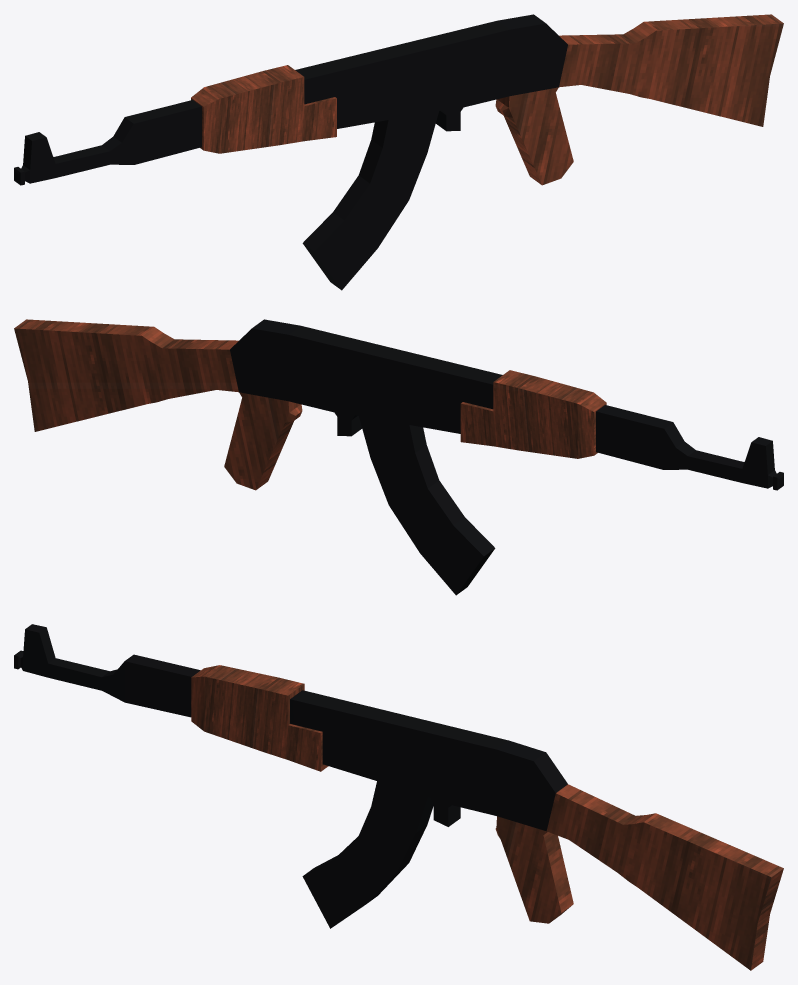
The picture shows the model from 3 angles, top to bottom: view 1: azimuth 30°, elevation 25°; view 2: azimuth 150°, elevation 25°; view 3: azimuth 330°, elevation 25°; orthographic projection.
Visible parts, largest first — view 1: ak47_body, ak47_mag; view 2: ak47_body, ak47_mag; view 3: ak47_body, ak47_mag.
Part boxes in pixels (x1,y1,x2,y2): ak47_body: (14,14,783,185); ak47_mag: (302,111,438,290); ak47_body: (14,319,783,490); ak47_mag: (359,416,495,595); ak47_body: (14,624,783,970); ak47_mag: (302,781,433,928).
Bounding box in the file's own units: 4.59 × 1.3 × 0.1708.
Materials: 2 (1 with a texture image).
